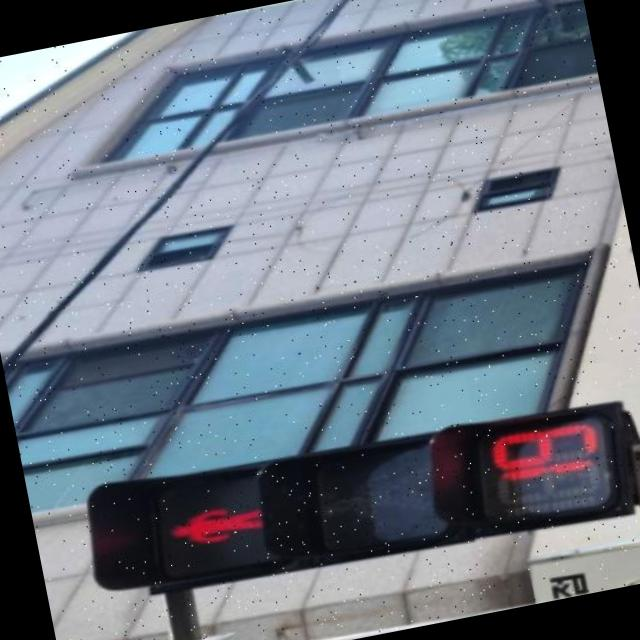red_light: (125, 367, 633, 603)
